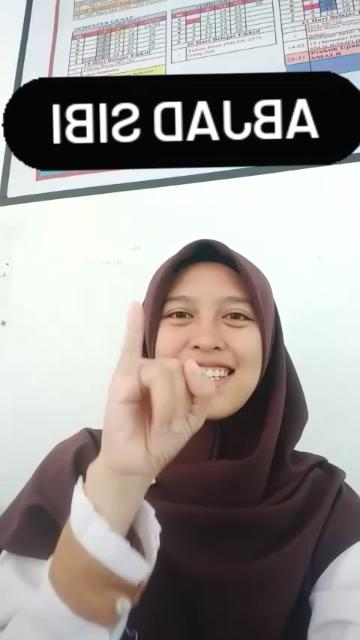I: (92, 299, 218, 485)
